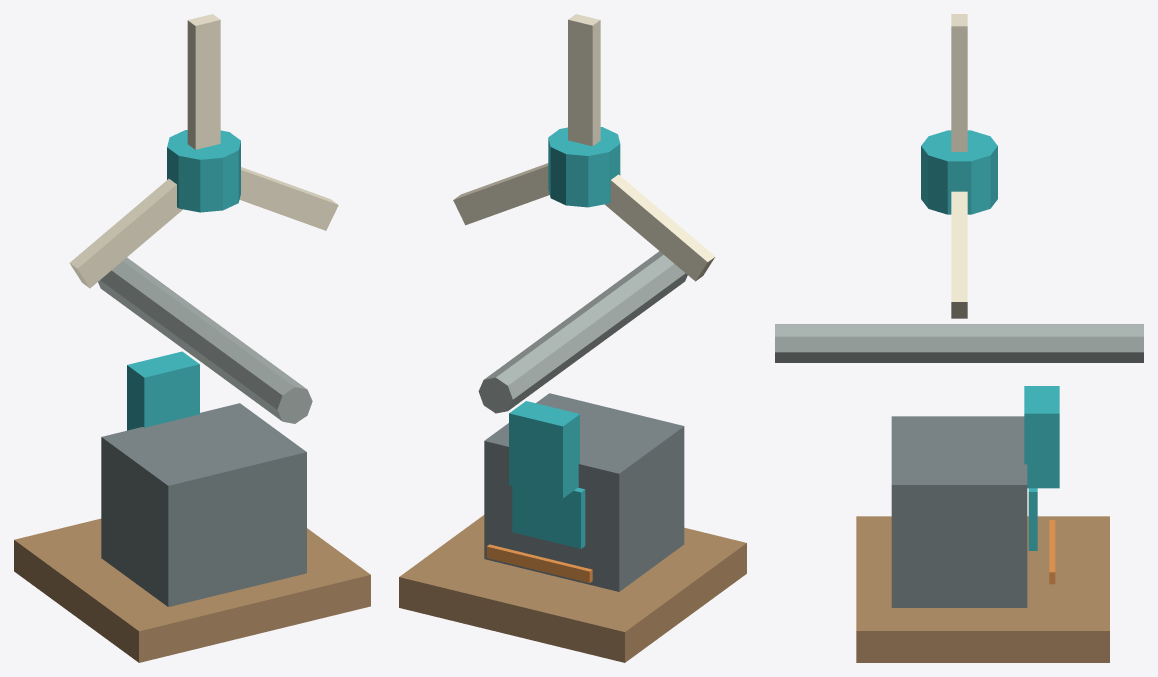
File: power_station.glb
3 renders of one model, left to right at view 1: azimuth 30°, elevation 25°; view 2: azimuth 150°, elevation 25°; view 3: azimuth 270°, elevation 25°, orthographic. The views are drawn at different scales.
Visible parts, largest first — view 1: generator_hut, foundation, tower_mast, hub, control_box, turbine_blade, turbine_blade.002, turbine_blade.001; view 2: foundation, generator_hut, tower_mast, control_box, hub, turbine_blade, turbine_blade.002, hut_panel, turbine_blade.001, warning_stripe; view 3: generator_hut, foundation, tower_mast, hub, control_box, turbine_blade, turbine_blade.001, hut_panel.
Boxes of the visible parts, box(x1,y1,x2,y2) form: generator_hut: box(101, 403, 306, 606); foundation: box(14, 518, 370, 662); tower_mast: box(98, 257, 312, 423); hub: box(167, 130, 240, 212); control_box: box(127, 351, 199, 430); turbine_blade: box(187, 14, 220, 149); turbine_blade.002: box(69, 179, 182, 288); turbine_blade.001: box(239, 167, 338, 230); foundation: box(399, 515, 746, 662); generator_hut: box(484, 393, 684, 591); tower_mast: box(478, 251, 687, 413); control_box: box(509, 401, 579, 498); hub: box(548, 127, 620, 207); turbine_blade: box(568, 14, 600, 146); turbine_blade.002: box(605, 174, 715, 281); hut_panel: box(512, 486, 585, 548); turbine_blade.001: box(453, 163, 549, 225); warning_stripe: box(486, 544, 592, 582); generator_hut: box(891, 416, 1027, 607); foundation: box(856, 516, 1109, 662); tower_mast: box(775, 324, 1143, 362); hub: box(921, 130, 997, 214); control_box: box(1024, 386, 1059, 488); turbine_blade: box(951, 14, 967, 151); turbine_blade.001: box(951, 191, 967, 318); hut_panel: box(1028, 488, 1037, 550).
Size of the model in its own units: 1.04 by 2.19 by 1.25.
